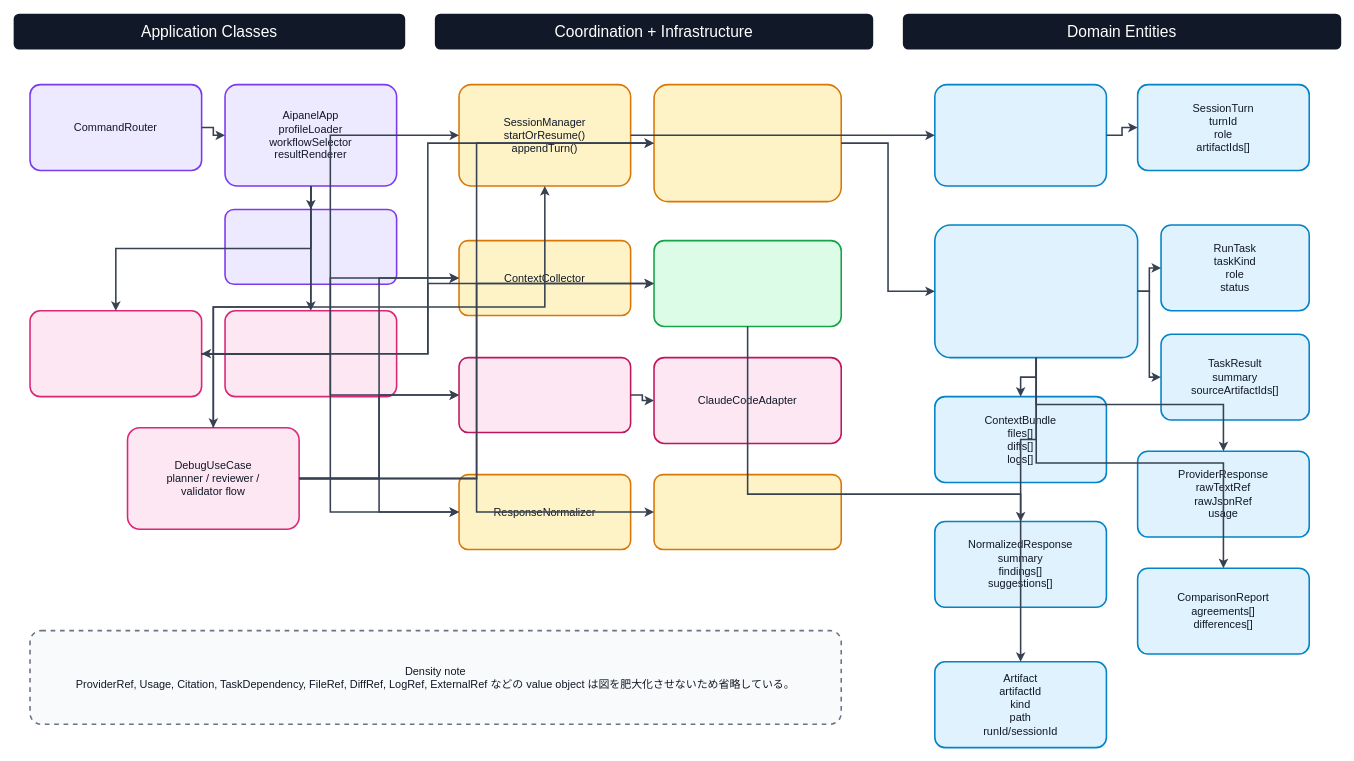
This 1354x761 diagram has some shape labels left out. Here are the shapes that lost their labels. From the top down, the box of each, then its label:
(653, 83, 842, 202): RunCoordinator createRun() createTask() createContextBundle()
(934, 83, 1107, 186): Session sessionId title providerRefs[] turns[]
(224, 208, 397, 285): ResultRenderer
(653, 239, 842, 327): ArtifactRepository
(934, 224, 1138, 358): Run runId sessionId mode status tasks[] taskResults[] contextBundles[]
(29, 310, 202, 397): ConsultUseCase
(224, 310, 397, 397): FollowupUseCase
(458, 356, 631, 433): ProviderRegistry
(653, 473, 842, 550): ComparisonEngine
